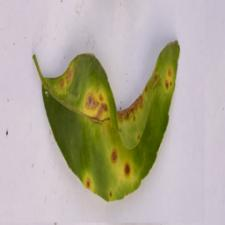Canker: (37, 56, 187, 190)
